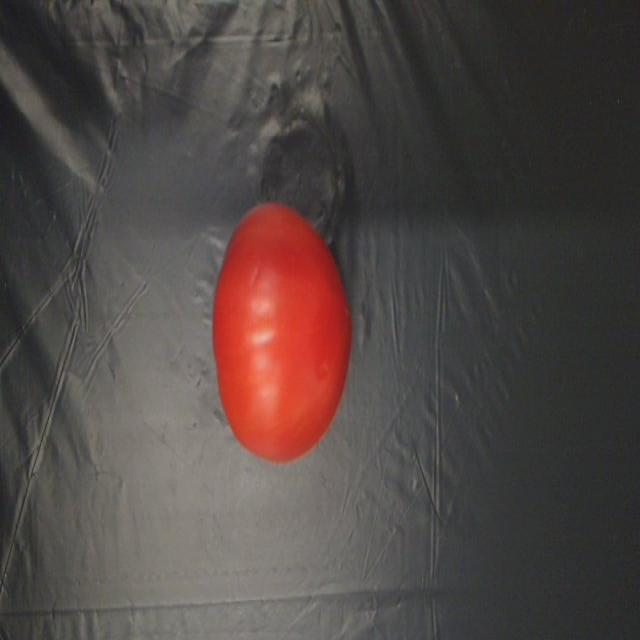kirmizi: (214, 185, 357, 476)
